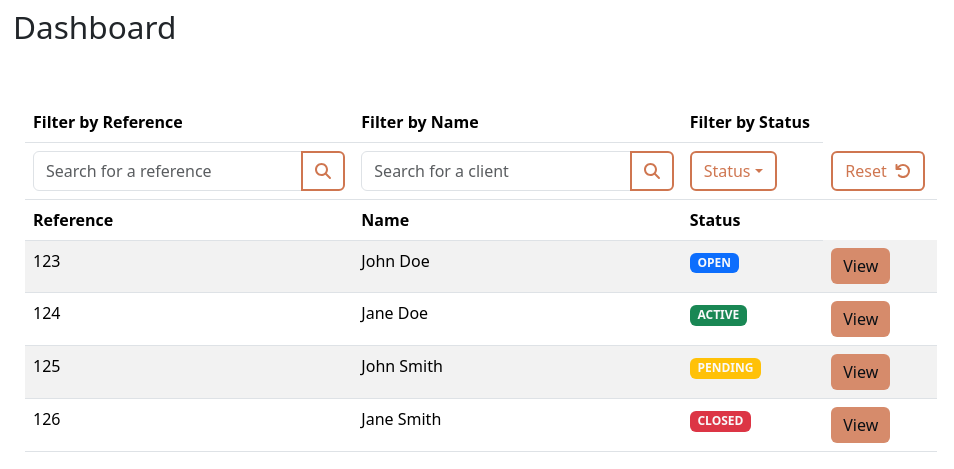
Test case: Dashboard › When the reset button is clicked › renders the cases table with the correct amount of rows
The width and height of the screenshot is (954, 469).
In the field with placeholder "Search for a reference": (168, 171) top-left (33, 151), bottom-right (302, 191), type "123"
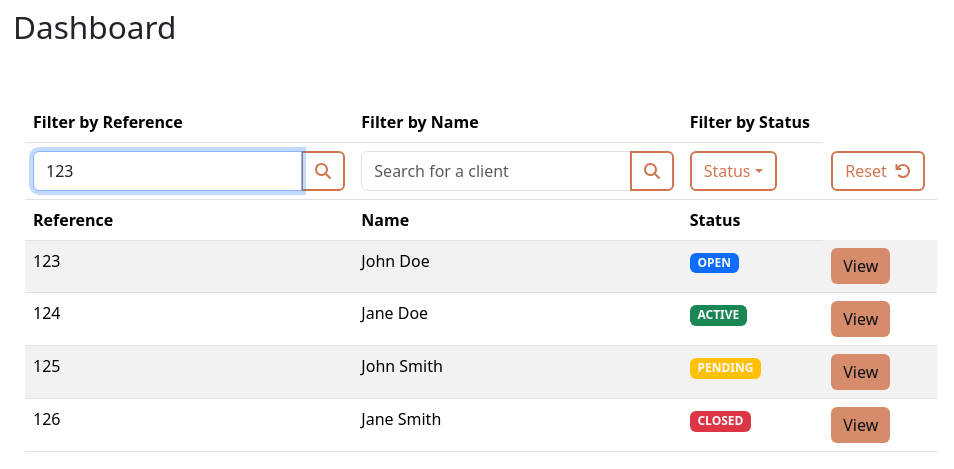
Click the 1st button: (323, 171) top-left (301, 151), bottom-right (345, 191)
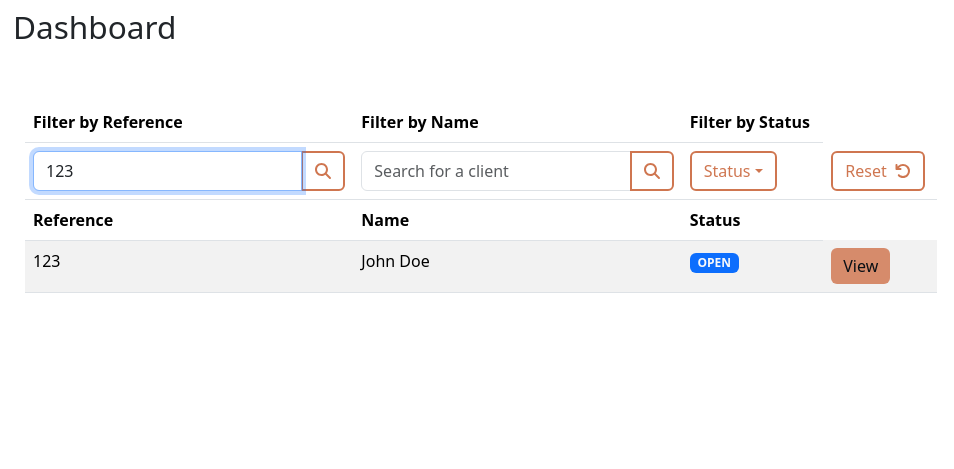
Now the number of rows with test id "caseRow" is 1, box top-left (25, 240), bottom-right (937, 293)
Click the button "Reset": (878, 171) top-left (831, 151), bottom-right (925, 191)
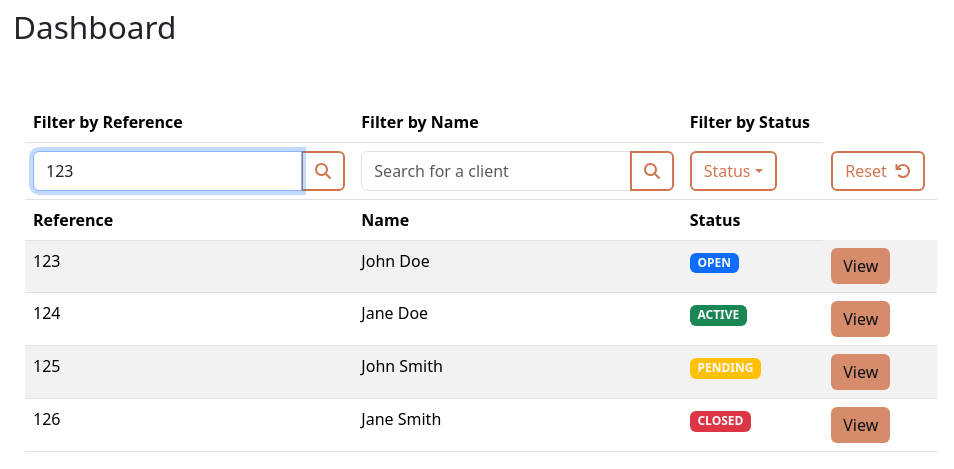
Now the number of rows with test id "caseRow" is 4, box top-left (25, 240), bottom-right (937, 293); top-left (25, 293), bottom-right (937, 346); top-left (25, 346), bottom-right (937, 399); top-left (25, 399), bottom-right (937, 452)
Now the row with test id "caseRow" shows "124", box top-left (33, 302), bottom-right (60, 324)
Now the row with test id "caseRow" shows "Jane Doe", box top-left (361, 302), bottom-right (428, 324)
